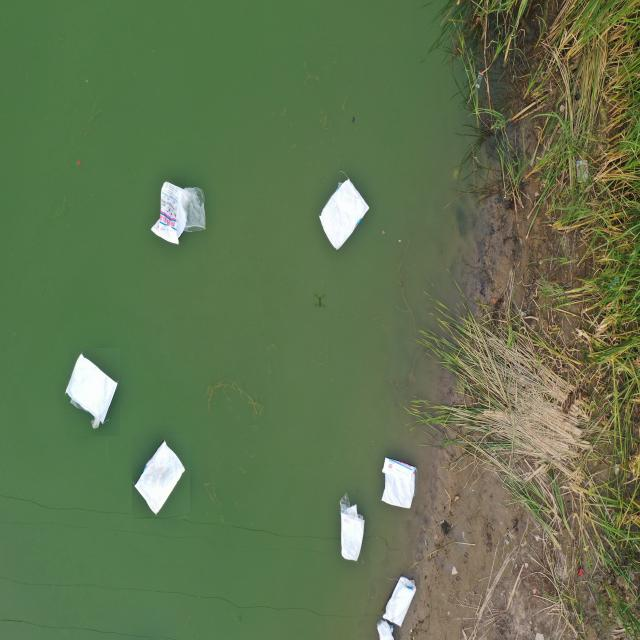plastic: (132, 434, 190, 519), (66, 348, 120, 436), (378, 448, 423, 508), (338, 488, 367, 565), (384, 572, 417, 630)
